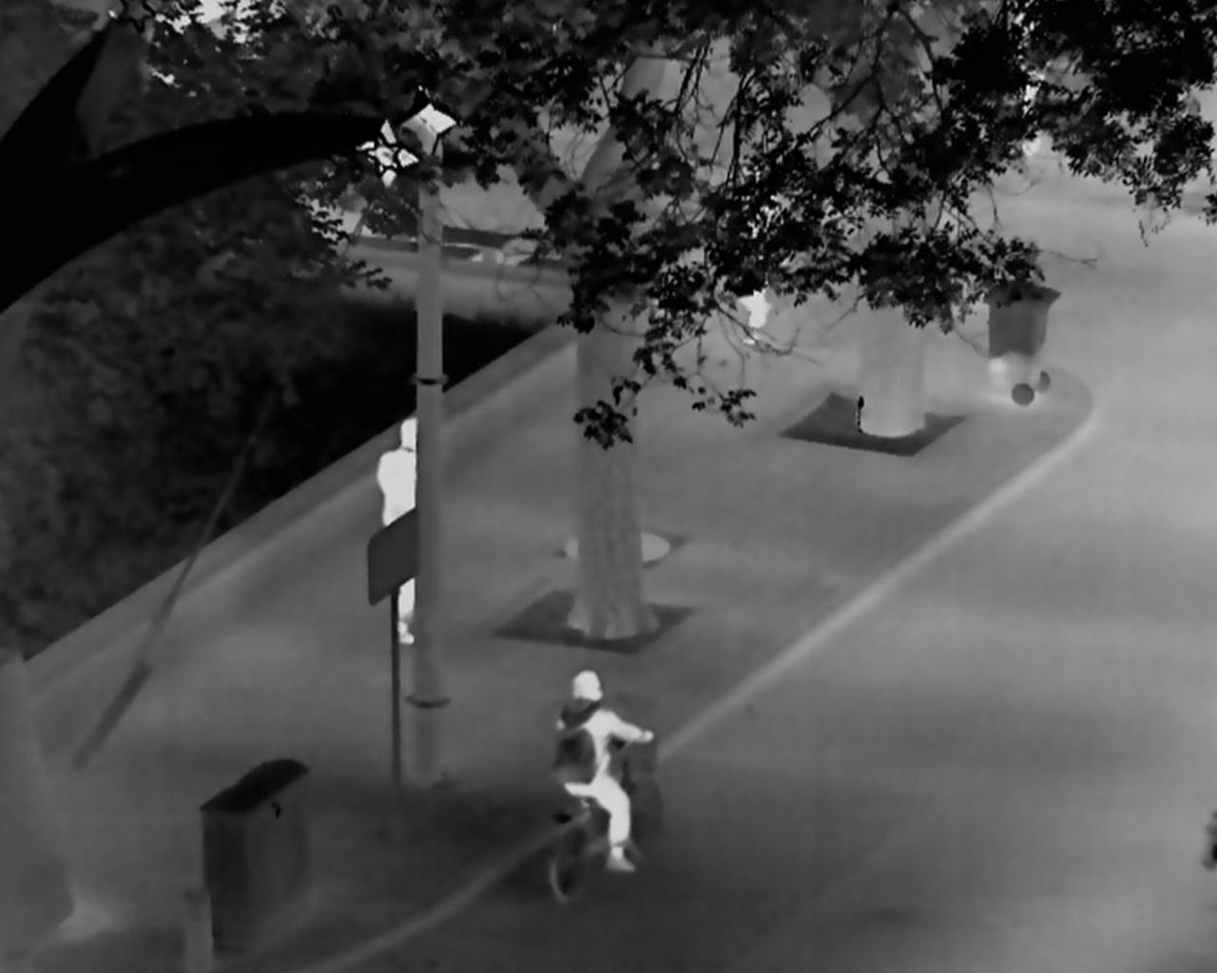person: (552, 669, 655, 873), (722, 161, 783, 347), (376, 416, 415, 644)
